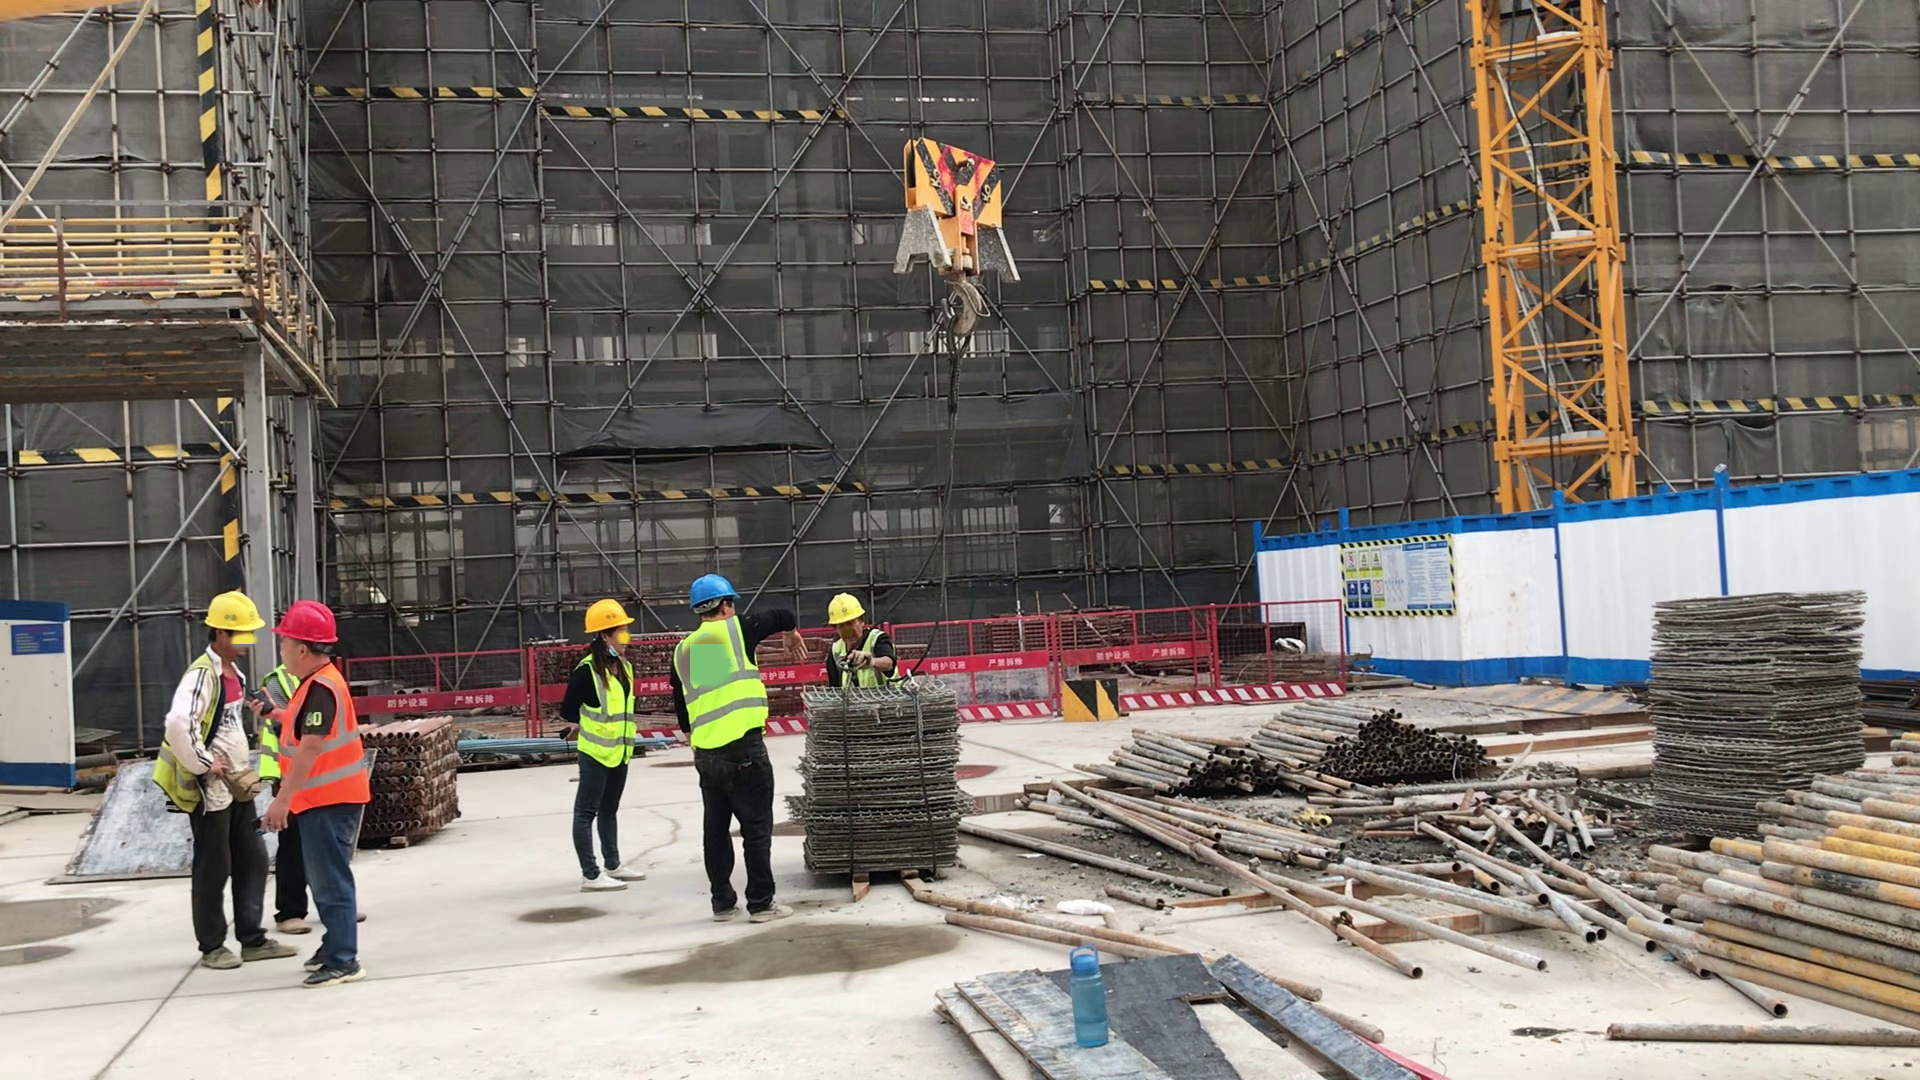fence: (1225, 590, 1341, 706), (952, 611, 1058, 728), (1126, 595, 1225, 713), (470, 642, 537, 732)
helmet: (202, 592, 268, 638), (273, 601, 339, 647), (581, 599, 635, 633), (687, 574, 740, 607), (826, 593, 868, 627)
hook: (896, 138, 1025, 337)
person: (154, 590, 303, 967), (666, 575, 807, 928), (259, 600, 373, 981), (560, 599, 651, 894), (823, 592, 900, 685)
scaffold: (1652, 724, 1920, 1032), (1250, 698, 1495, 781), (1080, 725, 1291, 799), (370, 704, 459, 849)
slogan: (1345, 543, 1454, 616)
vest: (278, 664, 372, 817), (673, 617, 772, 749), (155, 653, 224, 819), (574, 651, 638, 772), (832, 632, 898, 685)
